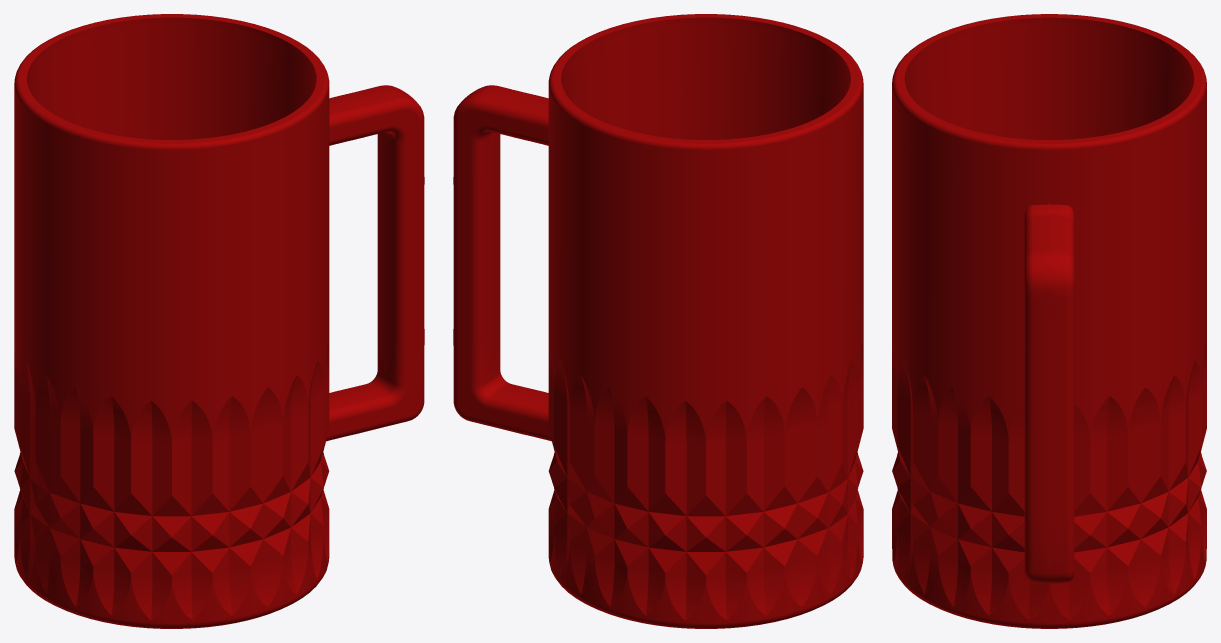
File: CM-MUG049B.glb
3 views of the same model, side by side, from view 1: azimuth 30°, elevation 25°; view 2: azimuth 150°, elevation 25°; view 3: azimuth 270°, elevation 25° (orthographic).
Size of the model in its own units: 0.0983 by 0.12 by 0.0703.
